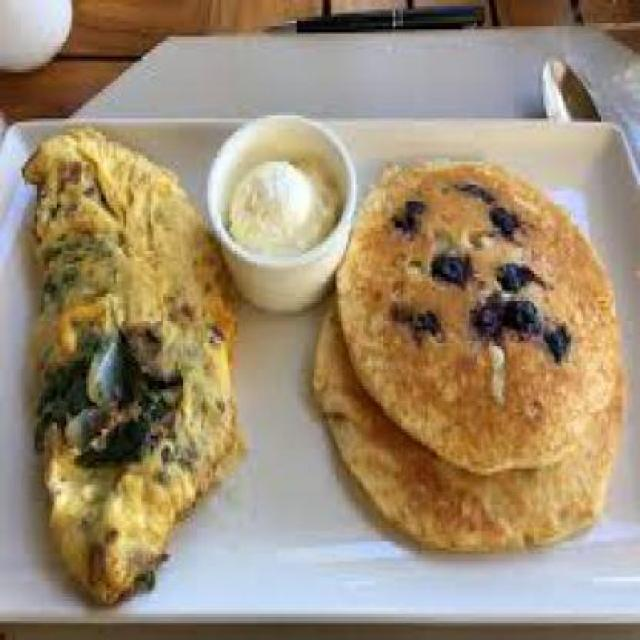ice cream: (219, 144, 336, 248)
omelette: (20, 122, 234, 601)
pancakes: (316, 144, 616, 550)
